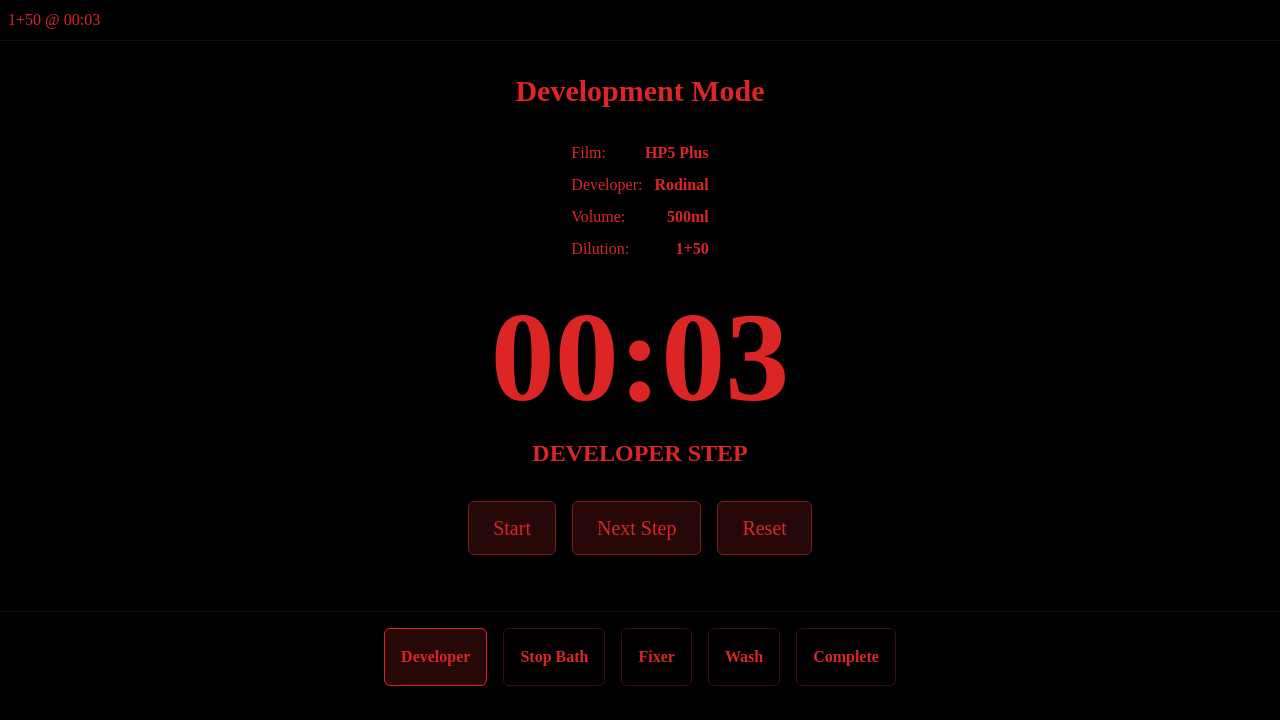
it: DevelopmentMode › transitions to next step when countdown reaches zero
What coordinates should you click on to do the following:
click the button "Start"
I would click on:
 (512, 528)
Its box is x1=468 y1=501 x2=556 y2=555.
Wait 4000 ms
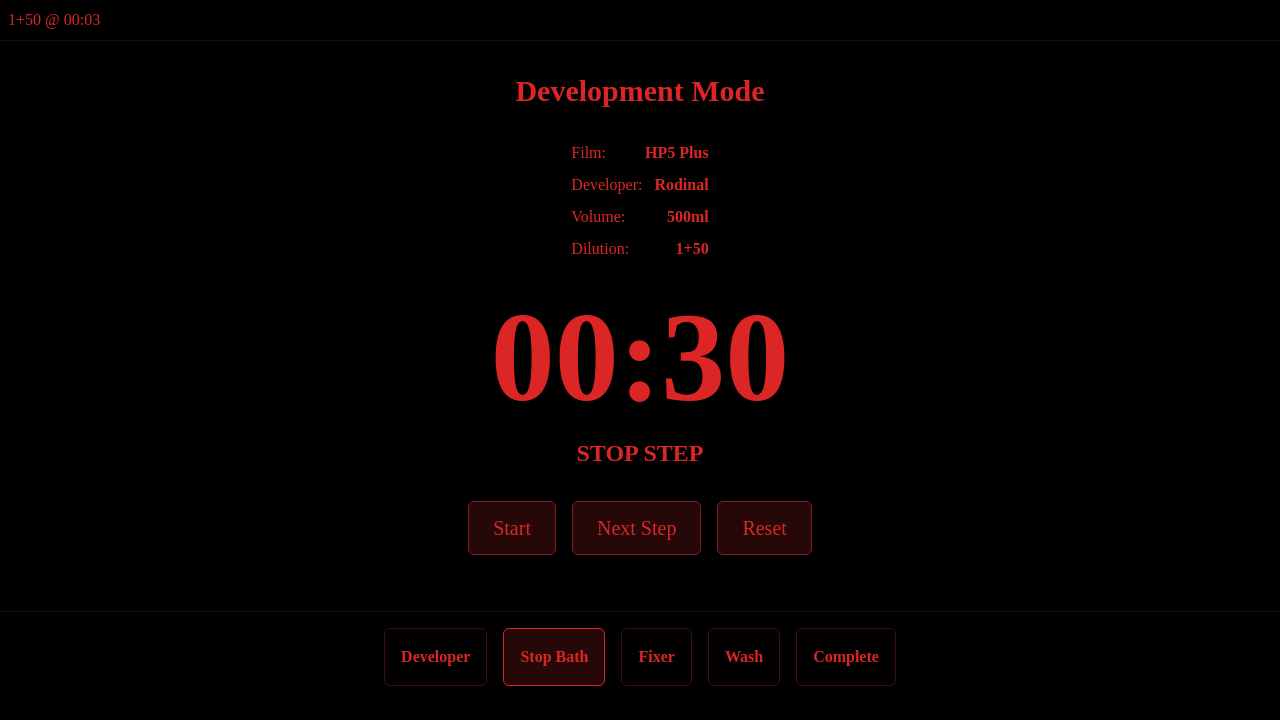
Expected: the text "STOP STEP" is shown, x1=576 y1=440 x2=704 y2=466
